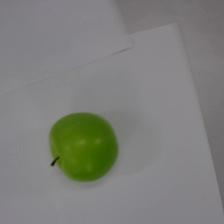green: (48, 110, 119, 182)
